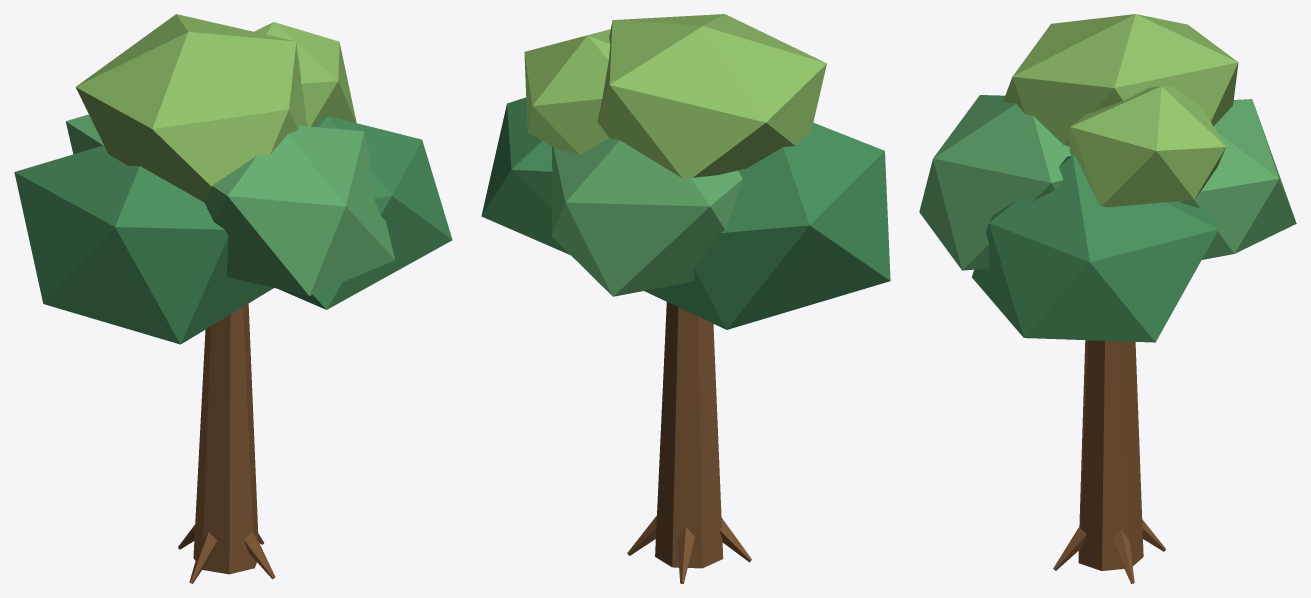
The model's file is sm_env_forest_oak.glb.
3 renders of one model, left to right at view 1: azimuth 30°, elevation 25°; view 2: azimuth 150°, elevation 25°; view 3: azimuth 270°, elevation 25°, orthographic. The views are drawn at different scales.
Visible parts, largest first — view 1: OakCrown, OakCrown.004, OakCrown.003, Trunk, OakCrown.001, OakCrown.005, OakCrown.002, RootFlare.002; view 2: OakCrown, OakCrown.004, OakCrown.002, Trunk, OakCrown.005, OakCrown.001, RootFlare.001; view 3: OakCrown.001, OakCrown.004, OakCrown.003, OakCrown.005, Trunk, OakCrown.002, RootFlare, RootFlare.003.
Part boxes in pixels (box(x1,y1,x2,y2)): OakCrown: box(14, 145, 273, 344); OakCrown.004: box(75, 14, 306, 202); OakCrown.003: box(204, 125, 395, 295); Trunk: box(193, 303, 258, 574); OakCrown.001: box(278, 115, 452, 309); OakCrown.005: box(254, 22, 356, 126); OakCrown.002: box(65, 114, 103, 154); RootFlare.002: box(189, 532, 216, 583); OakCrown: box(644, 122, 890, 329); OakCrown.004: box(597, 14, 826, 178); OakCrown.002: box(551, 138, 742, 296); Trunk: box(655, 302, 723, 568); OakCrown.005: box(524, 29, 610, 154); OakCrown.001: box(481, 97, 569, 254); RootFlare.001: box(677, 526, 694, 583); OakCrown.001: box(972, 155, 1218, 342); OakCrown.004: box(1003, 14, 1238, 146); OakCrown.003: box(919, 95, 1071, 270); OakCrown.005: box(1069, 86, 1225, 207); Trunk: box(1078, 340, 1143, 570); OakCrown.002: box(1179, 99, 1296, 259); RootFlare: box(1112, 529, 1134, 583); RootFlare.003: box(1053, 526, 1086, 570).
Size of the model in its own units: 5.37 by 7.25 by 4.64.
